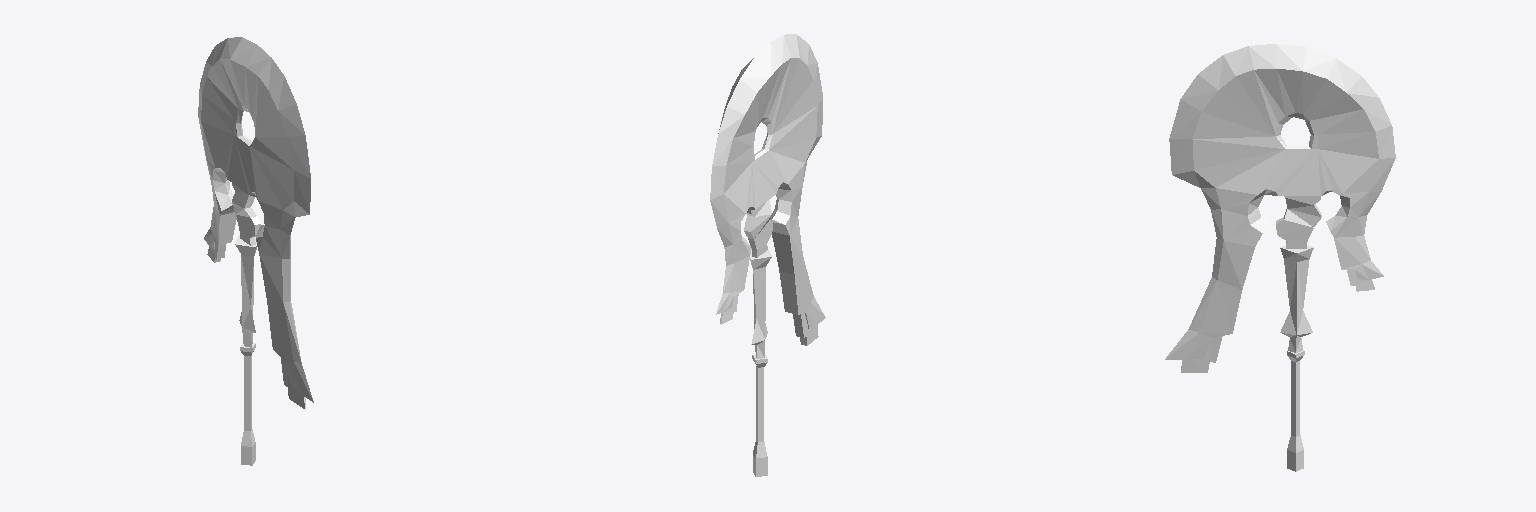
File: edgepunisher19.obj
The picture shows the model from 3 angles: view 1: azimuth 30°, elevation 25°; view 2: azimuth 150°, elevation 25°; view 3: azimuth 270°, elevation 25°; orthographic projection.
Visible parts, largest first — view 1: Object.1; view 2: Object.1; view 3: Object.1.
Boxes of the visible parts, x1,y1,x2,y2 form: Object.1: [198, 37, 313, 465]; Object.1: [710, 34, 825, 476]; Object.1: [1165, 44, 1395, 471].
Size of the model in its own units: 0.4396 by 6.16 by 3.05.